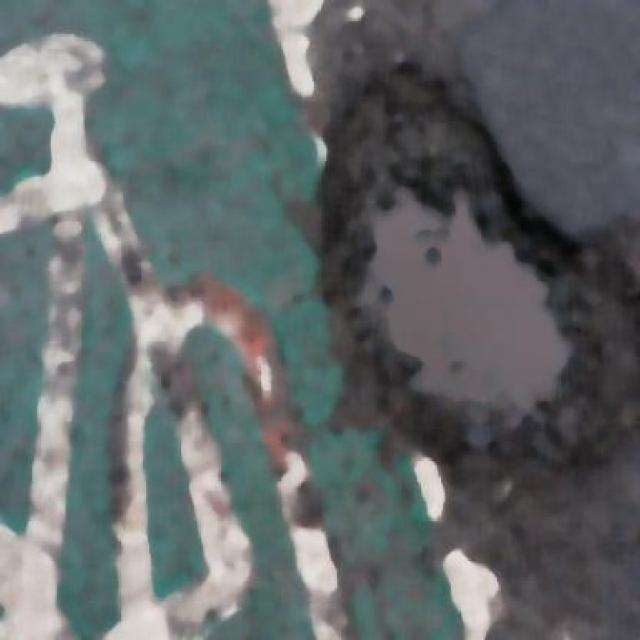Pothole: (342, 46, 583, 460)
